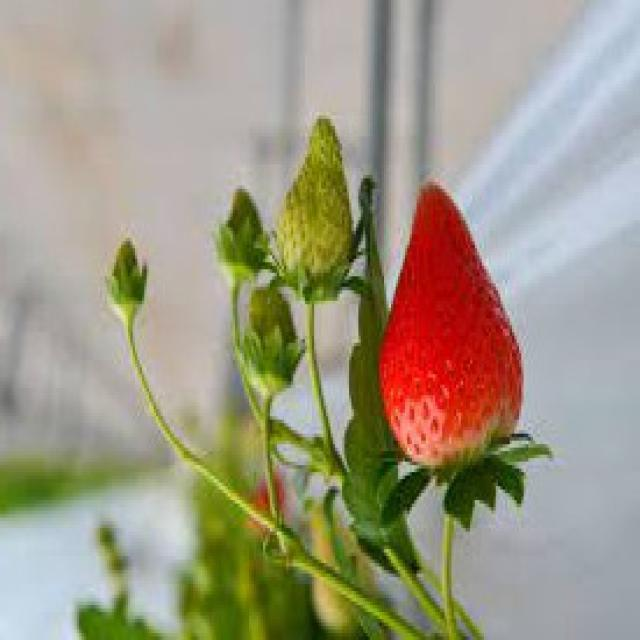Strawberry: (376, 183, 524, 474), (278, 113, 354, 298), (243, 286, 297, 390), (220, 186, 264, 278)
